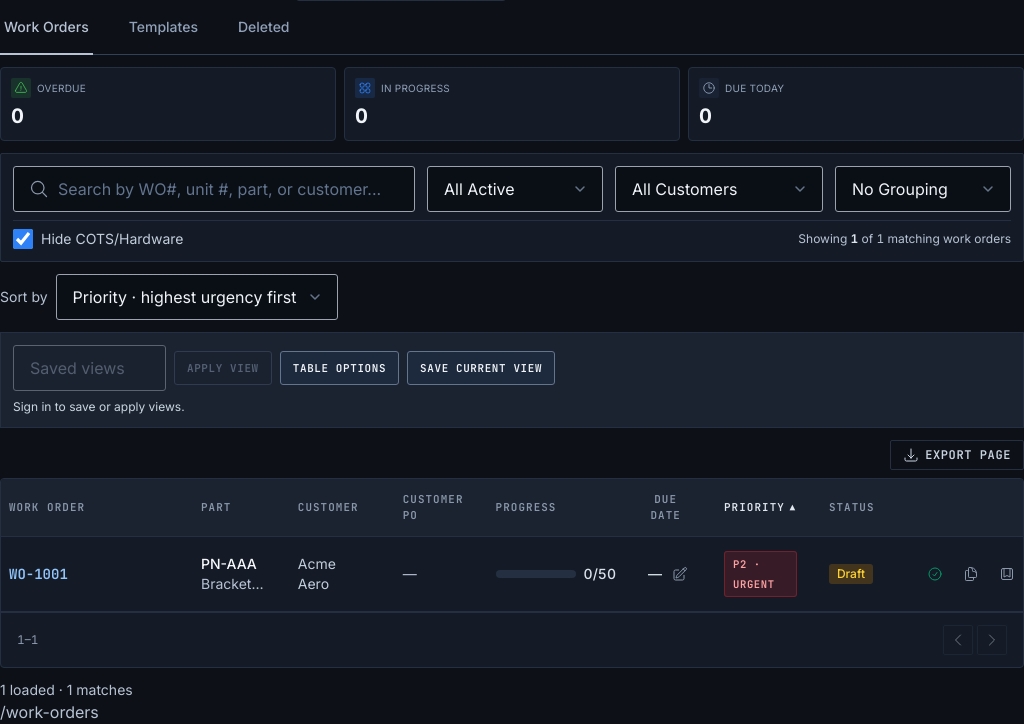
it: WorkOrders: the row action that fills the catalog › opens the save-as-template dialog from a list row
(page scrolled)
Click the button named "Save WO-1001 as a template" at (1007, 574), box [991,558,1023,590]
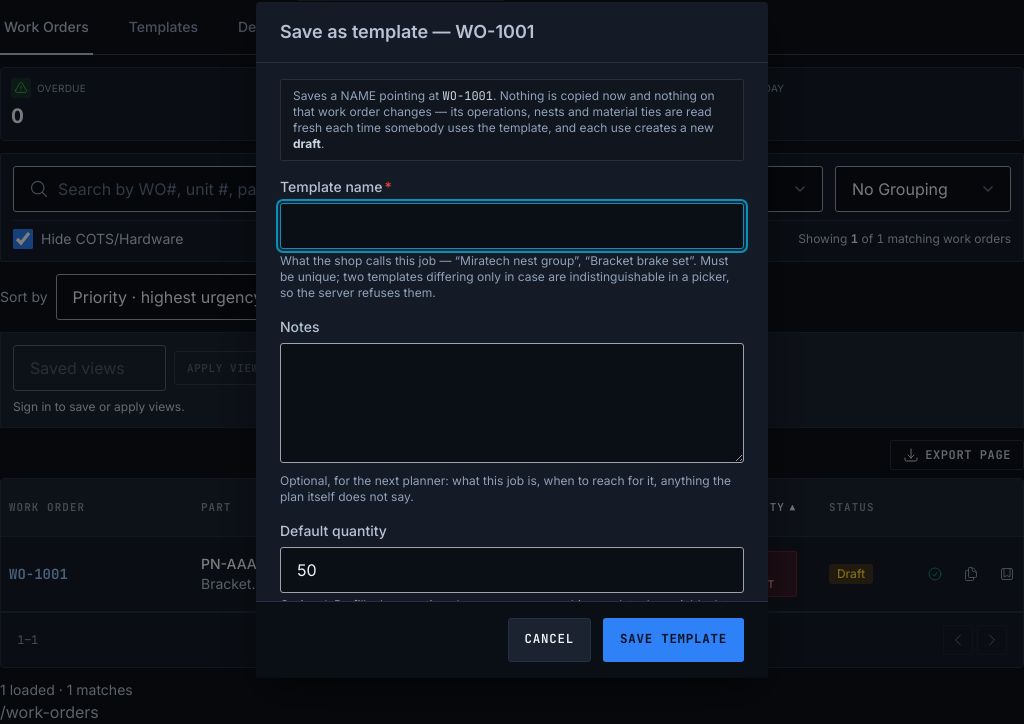
Expected: the heading "Save as template — WO-1001" is shown, [280,18,534,46]
Expected: the dialog shows "nothing on that work order changes", [293,88,715,135]
